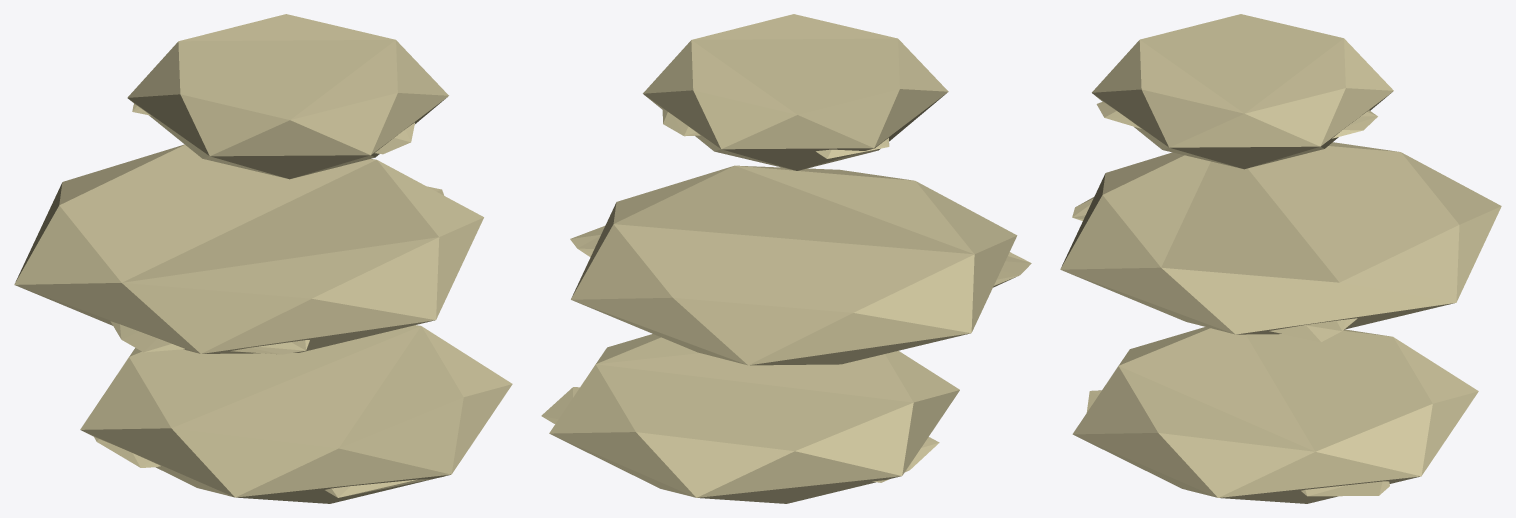
The model's file is Leaves_B.glb.
3 views of the same model, side by side, from view 1: azimuth 30°, elevation 25°; view 2: azimuth 150°, elevation 25°; view 3: azimuth 270°, elevation 25° (orthographic). The views are drawn at different scales.
Visible parts, largest first — view 1: Leaves; view 2: Leaves; view 3: Leaves.
Boxes of the visible parts, x1,y1,x2,y2 form: Leaves: [14, 14, 512, 503]; Leaves: [541, 14, 1031, 503]; Leaves: [1060, 14, 1501, 503].
Size of the model in its own units: 17.96 by 15.53 by 16.57.
